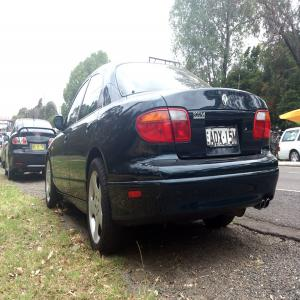Vehicle-registration-plate: (206, 122, 237, 155), (33, 146, 45, 152)
